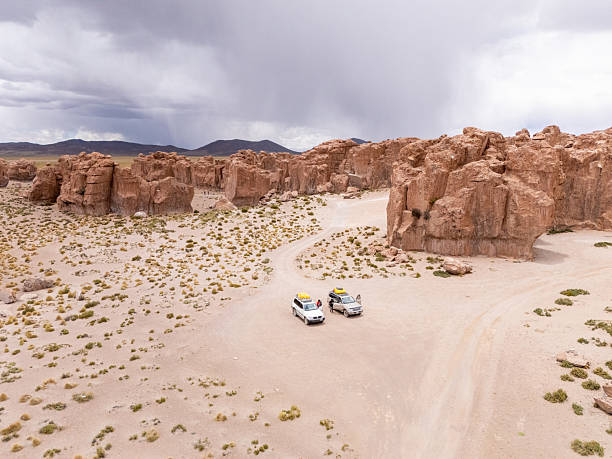vehicle_track: (418, 249, 576, 453), (445, 266, 594, 458)
